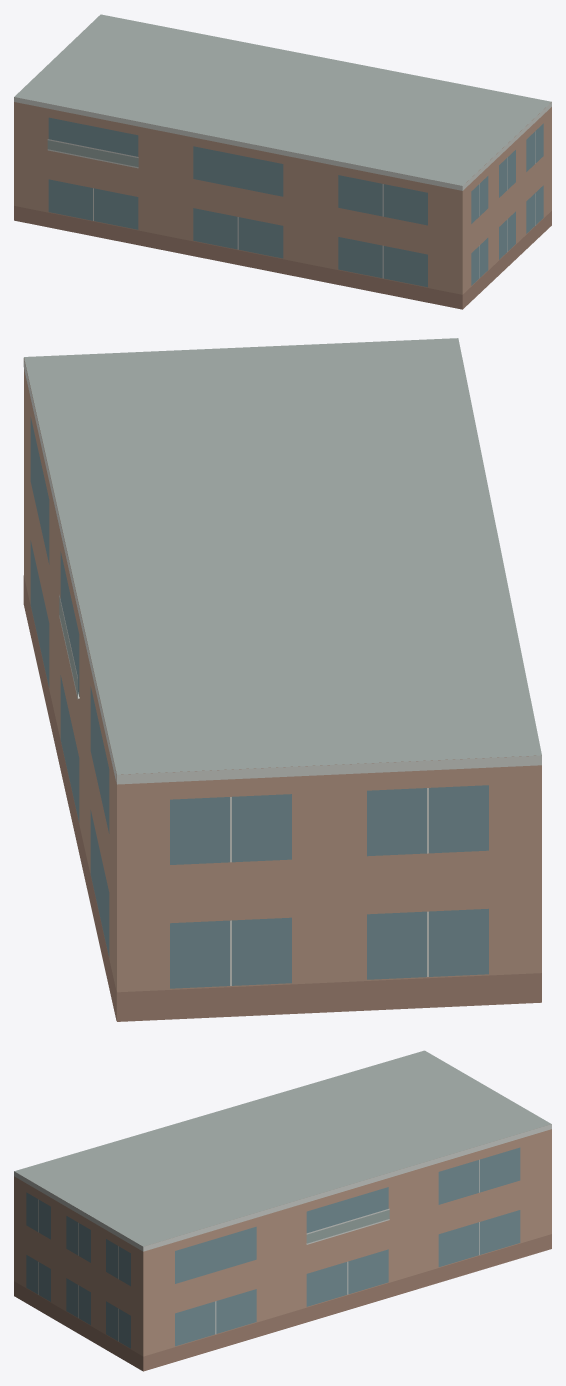
Rendered from survey-upis-32758896.glb.
The picture shows the model from 3 angles, top to bottom: view 1: azimuth 30°, elevation 25°; view 2: azimuth 150°, elevation 25°; view 3: azimuth 270°, elevation 25°; orthographic projection. The views are drawn at different scales.
Parts seen in each view (by area): view 1: survey-upis-32758896.tmp; view 2: survey-upis-32758896.tmp; view 3: survey-upis-32758896.tmp.
Part boxes in pixels (x1=…): survey-upis-32758896.tmp: x1=14, y1=14, x2=551, y2=309; survey-upis-32758896.tmp: x1=23, y1=338, x2=541, y2=1021; survey-upis-32758896.tmp: x1=14, y1=1050, x2=551, y2=1371.
Bounding box in the file's own units: 20.59 × 6.1 × 23.84.
